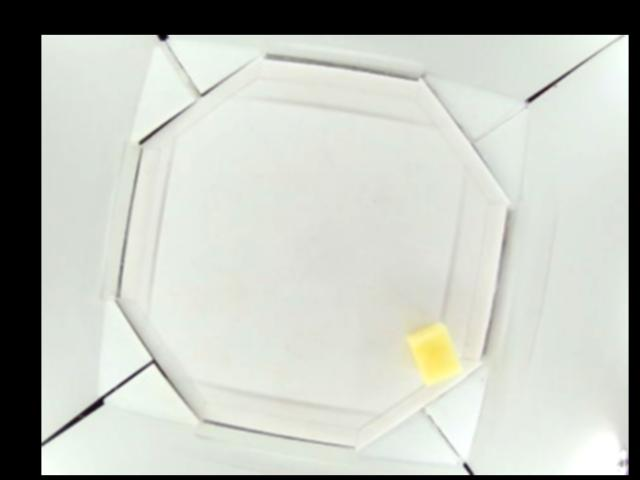Potato: (405, 323, 464, 388)
